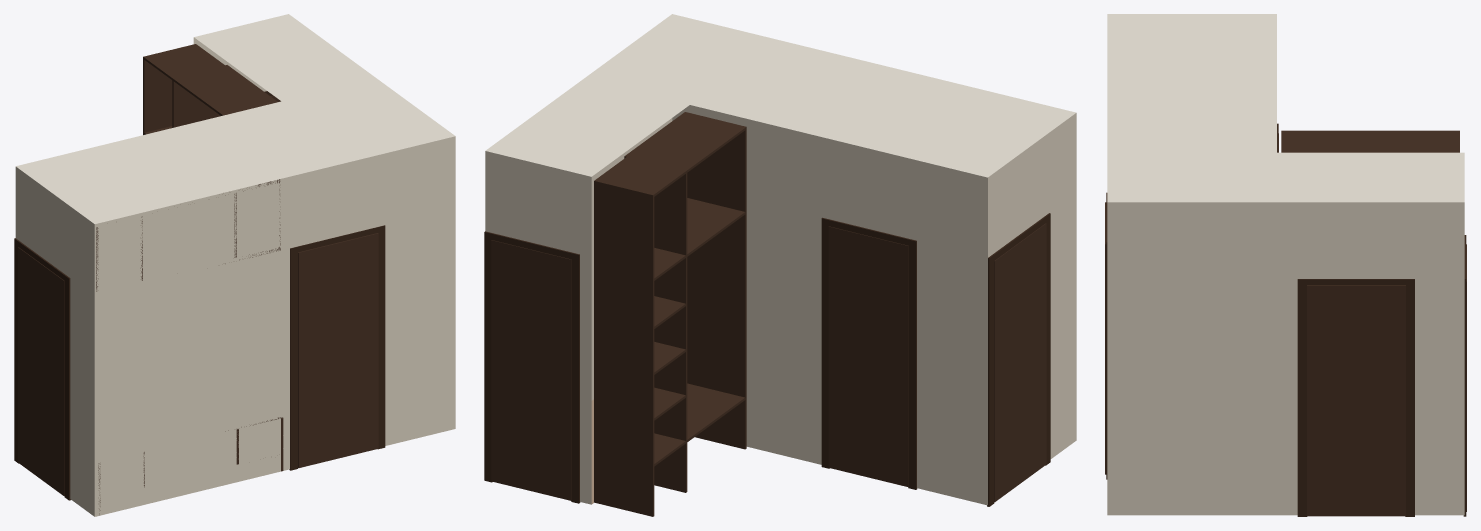
The model's file is hallway.glb.
3 views of the same model, side by side, from view 1: azimuth 30°, elevation 25°; view 2: azimuth 150°, elevation 25°; view 3: azimuth 270°, elevation 25° (orthographic). The views are drawn at different scales.
Parts seen in each view (by area): view 1: Wall_01, Ceiling, Wall_02, Leaf_Exit, Leaf_LivingRoom, Wall_04, Wall_03, Wardrobe_top, Frame_Exit, Wall_05, Frame_LivingRoom, Wardrobe_side_rigth (+1 smaller); view 2: Ceiling, Wall_07, Wall_06, Leaf_Bathroom, Leaf_Kitchen, Wardrobe_side_rigth, Wardrobe_side_left, Leaf_LivingRoom, Wall_04, Wall_08, Wall_11, Wardrobe_side_middle (+9 smaller); view 3: Wall_12, Ceiling, Leaf_Bedroom, Wall_13, Wall_14, Frame_Bedroom, Wardrobe_top, Frame_Kitchen, Frame_Exit, Leaf_Exit.
Boxes of the visible parts, box(x1,y1,x2,y2) form: Wall_01: box(94, 176, 289, 516); Ceiling: box(16, 14, 455, 223); Wall_02: box(385, 136, 455, 445); Leaf_Exit: box(298, 233, 378, 468); Leaf_LivingRoom: box(18, 247, 64, 496); Wall_04: box(70, 206, 94, 516); Wall_03: box(290, 153, 384, 248); Wardrobe_top: box(143, 44, 275, 115); Frame_Exit: box(289, 225, 385, 470); Wall_05: box(15, 167, 70, 277); Frame_LivingRoom: box(14, 238, 70, 500); Wardrobe_side_rigth: box(143, 59, 172, 134); Ceiling: box(485, 14, 1075, 177); Wall_07: box(690, 105, 822, 464); Wall_06: box(917, 160, 987, 505); Leaf_Bathroom: box(828, 226, 908, 486); Leaf_Kitchen: box(491, 240, 571, 500); Wardrobe_side_rigth: box(594, 183, 654, 516); Wardrobe_side_left: box(687, 129, 746, 449); Leaf_LivingRoom: box(994, 223, 1046, 502); Wall_04: box(1049, 113, 1076, 458); Wall_08: box(822, 137, 916, 240); Wall_11: box(485, 151, 579, 254); Wardrobe_side_middle: box(654, 173, 687, 492); Wall_12: box(1107, 202, 1297, 515); Ceiling: box(1107, 14, 1464, 202); Leaf_Bedroom: box(1307, 285, 1405, 516); Wall_13: box(1415, 202, 1464, 515); Wall_14: box(1297, 202, 1414, 278); Frame_Bedroom: box(1297, 279, 1414, 516); Wardrobe_top: box(1281, 130, 1459, 152); Frame_Kitchen: box(1463, 235, 1466, 516); Frame_Exit: box(1106, 192, 1107, 479); Leaf_Exit: box(1105, 202, 1106, 474).
Size of the model in its own units: 3.45 by 2.66 by 2.77.
